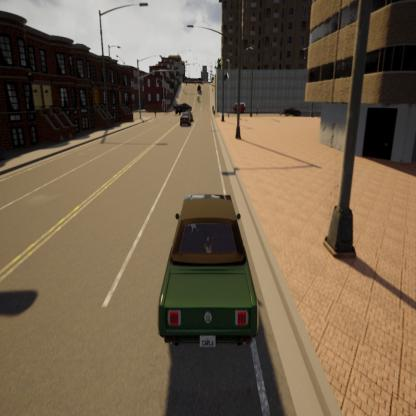Cars: (154, 184, 264, 363), (173, 96, 194, 118), (282, 104, 304, 118), (176, 109, 190, 128), (182, 107, 196, 124), (233, 102, 248, 115), (195, 81, 202, 91), (195, 92, 201, 102)
Pedestrian: (254, 101, 260, 118), (153, 103, 158, 120), (212, 106, 217, 119)
